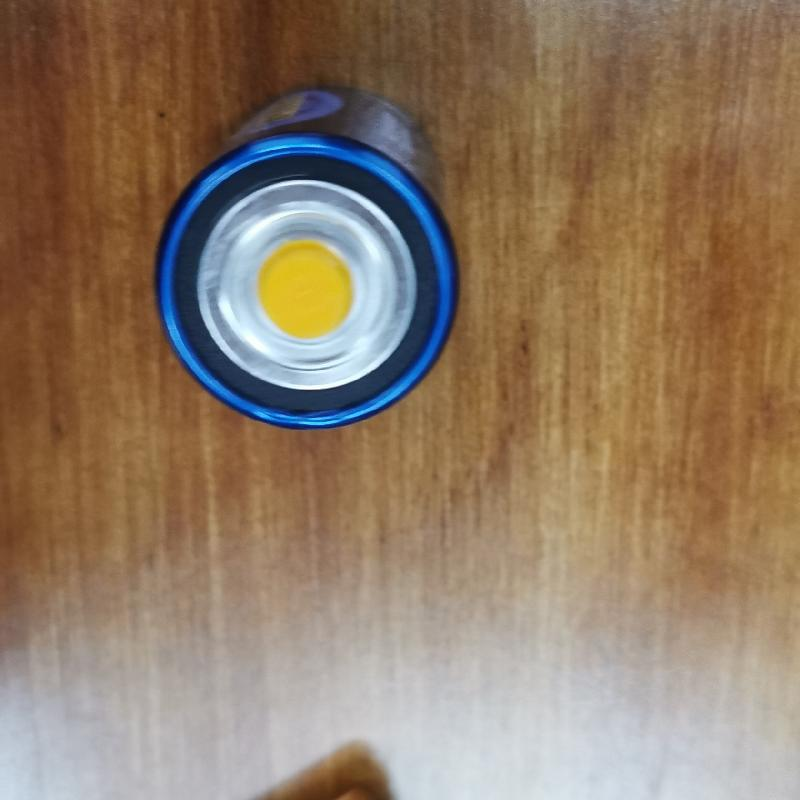battery: (146, 85, 462, 434)
